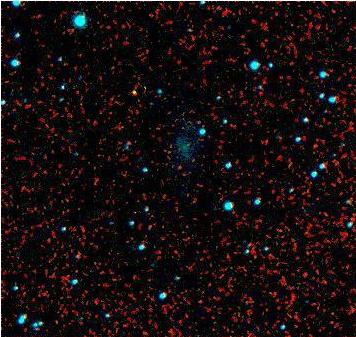star: (117, 79, 147, 109)
